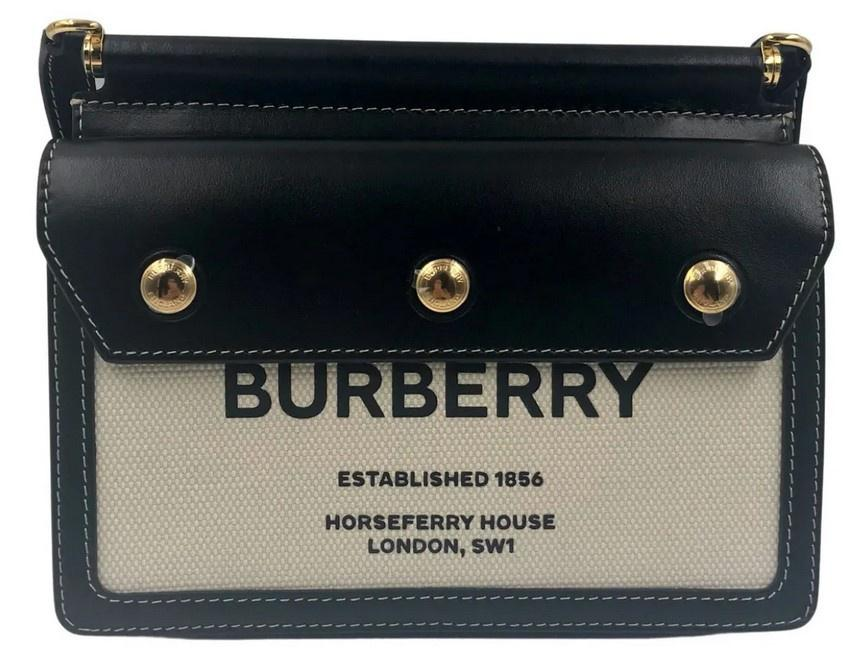BURBERRY: (224, 360, 654, 418)
